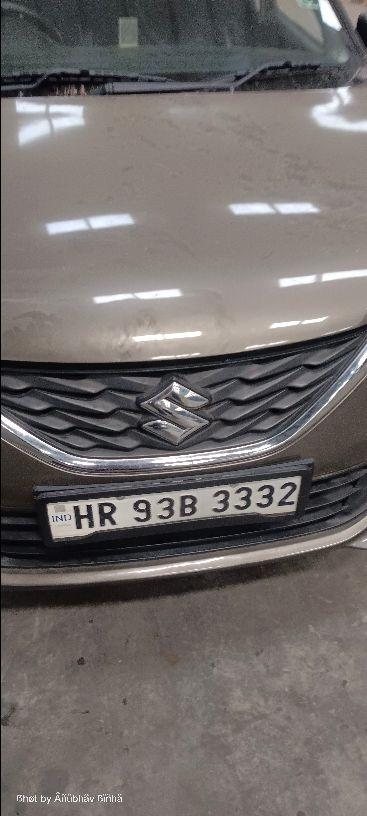license_plate: (32, 456, 315, 548)
